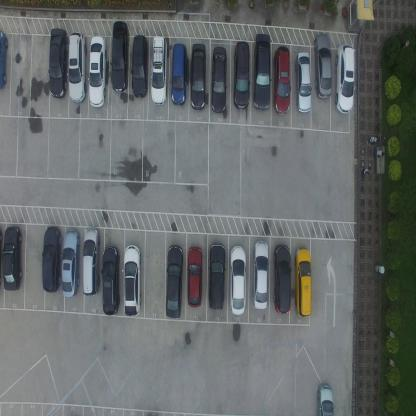car: (335, 43, 356, 116), (272, 244, 292, 316), (48, 27, 68, 99), (253, 32, 271, 111), (122, 244, 141, 318), (110, 20, 129, 93), (88, 34, 107, 107), (42, 225, 62, 294), (101, 245, 120, 316), (166, 243, 184, 317), (61, 228, 80, 298), (68, 31, 86, 104), (2, 226, 22, 291), (294, 246, 312, 318), (273, 45, 291, 116), (150, 36, 168, 107), (313, 33, 332, 100), (82, 226, 100, 296), (252, 239, 269, 310), (189, 43, 207, 110), (229, 244, 246, 314), (233, 40, 250, 110), (208, 241, 225, 310), (210, 46, 227, 115), (131, 34, 148, 100), (171, 43, 188, 106), (186, 246, 203, 308), (294, 51, 311, 113), (316, 383, 335, 415), (0, 30, 8, 90)
